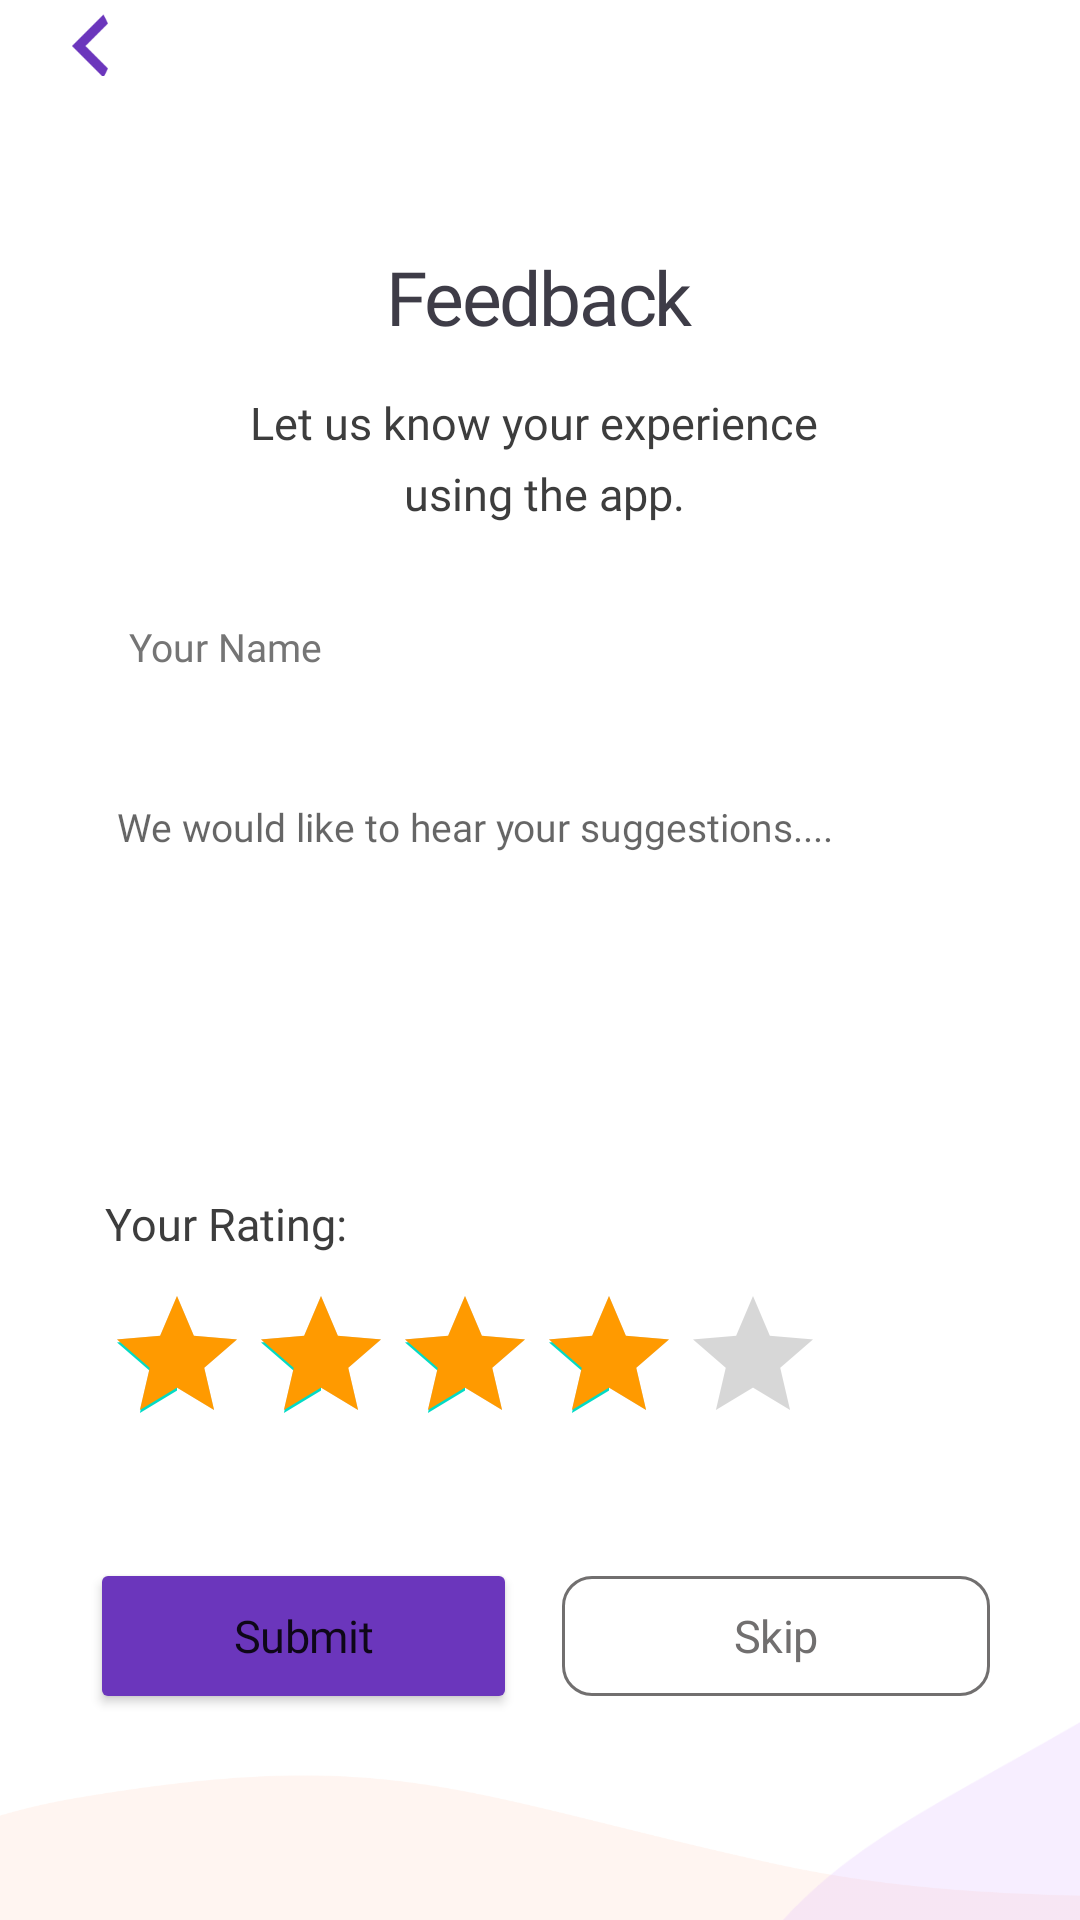

Where to tap for icons on this 1080*1920 app screen, as (x,y):
back: (90,45)
